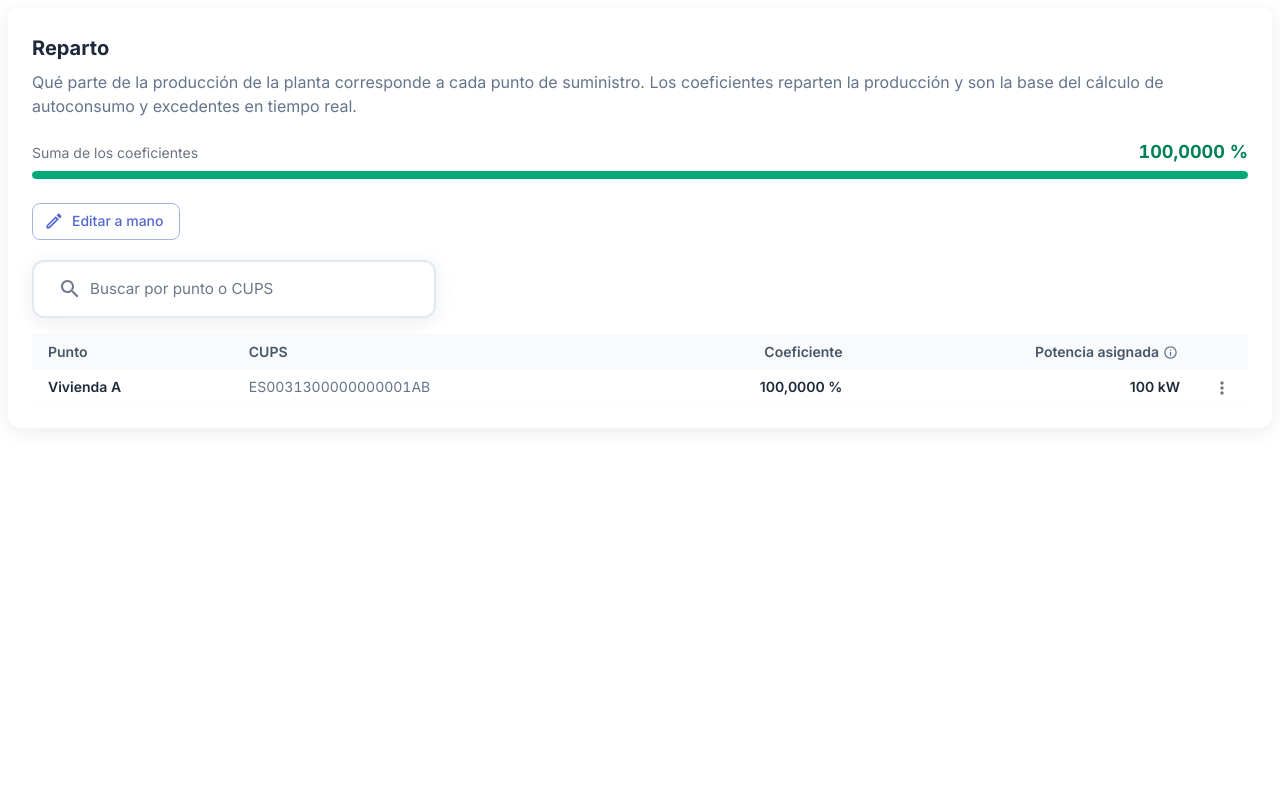
Test case: CoefficientHistoryDrawer — reachable from every agreement status › opens from a DRAFT agreement
Click the button named "Más acciones": (1222,388) 1212,378 -> 1232,398
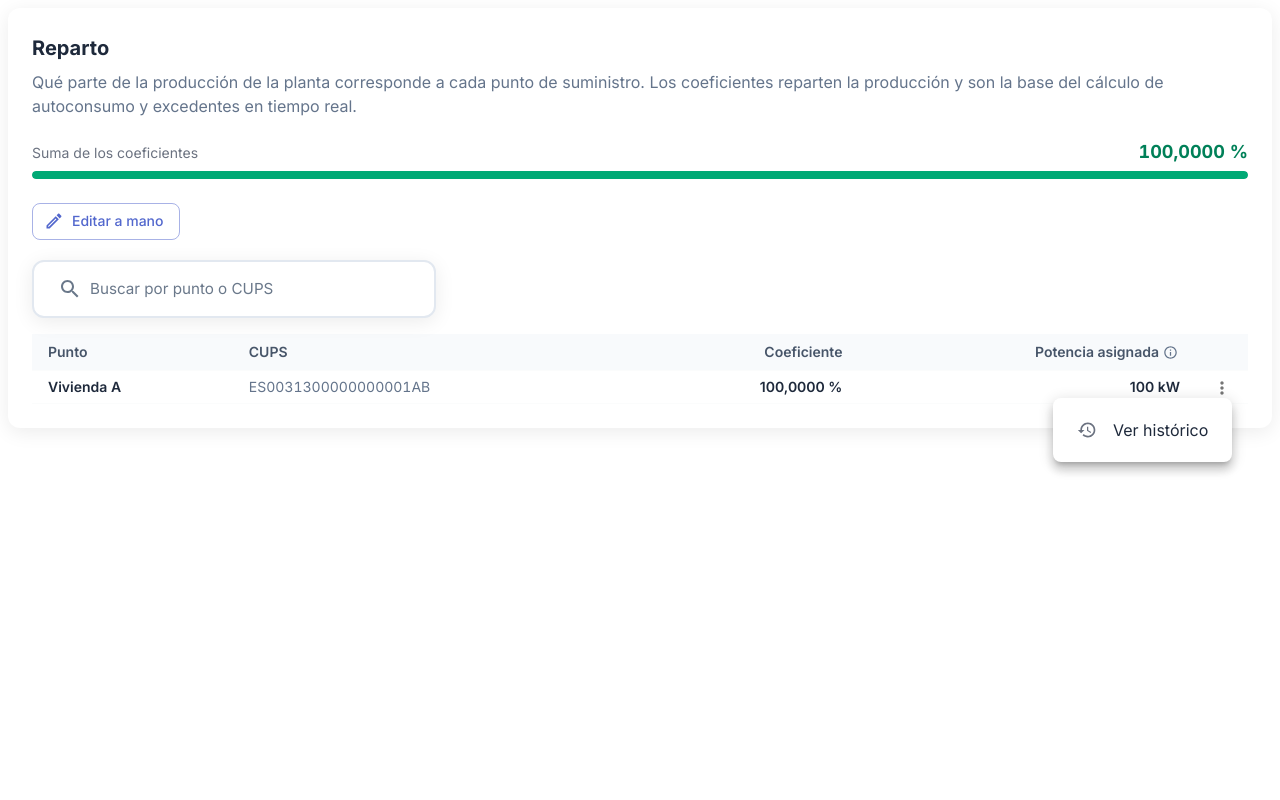
Click the menu item "Ver histórico": (1143,430) 1077,420 -> 1208,440
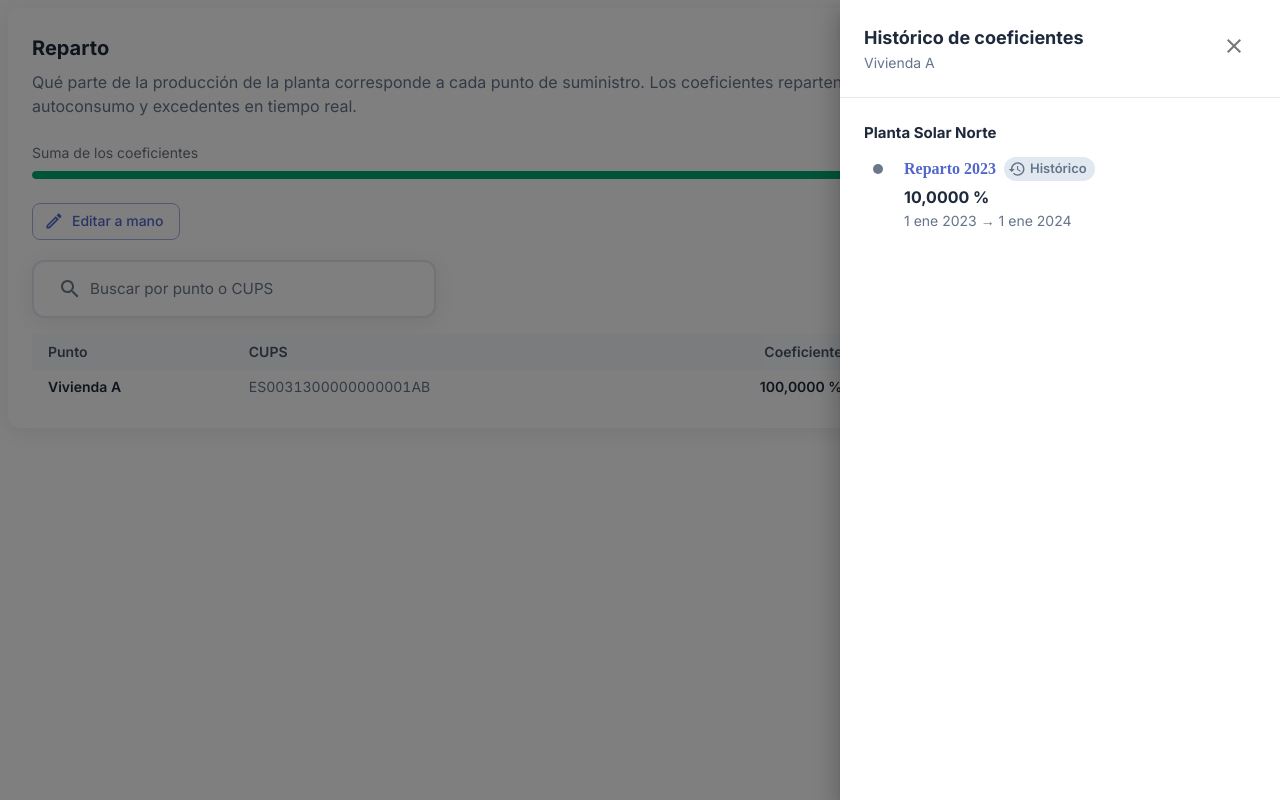
Expected: the heading "Histórico de coeficientes" is shown, 864,27 -> 1084,48
Expected: the link "Reparto 2023" is shown, 904,160 -> 996,178
